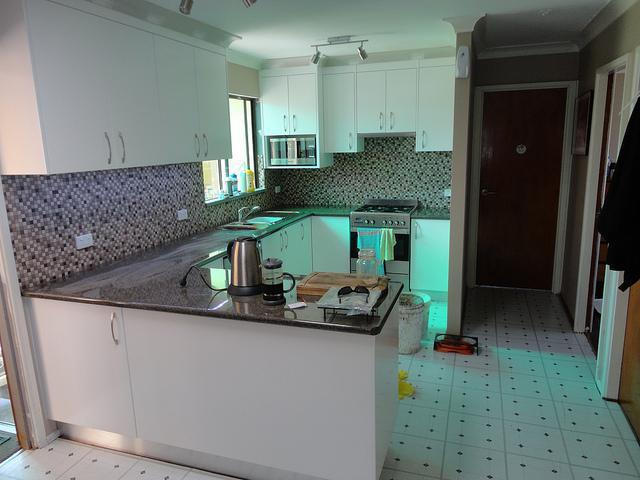Lavaplatos: (226, 205, 285, 233)
